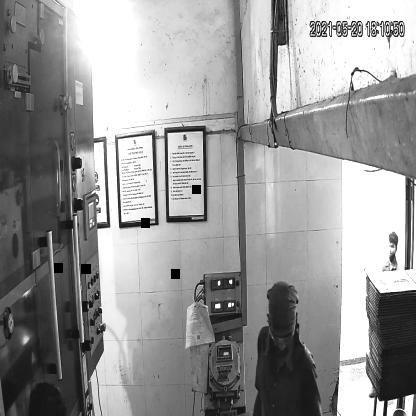goggles: (266, 320, 298, 346)
